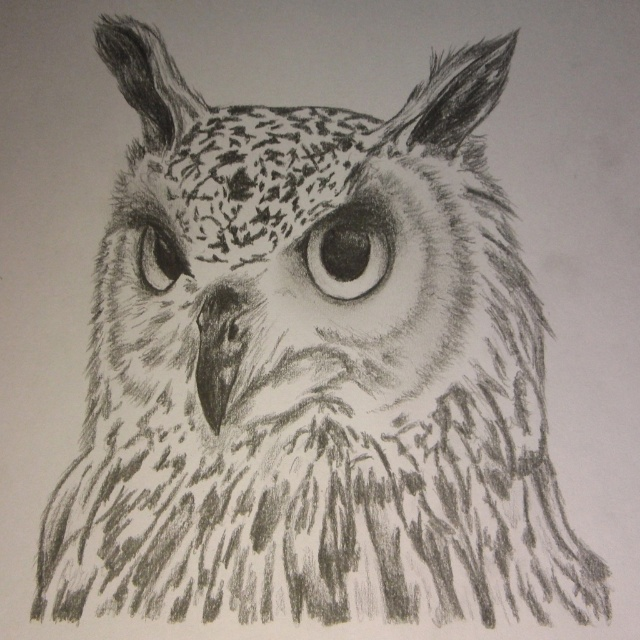Owl: (36, 5, 614, 630)
